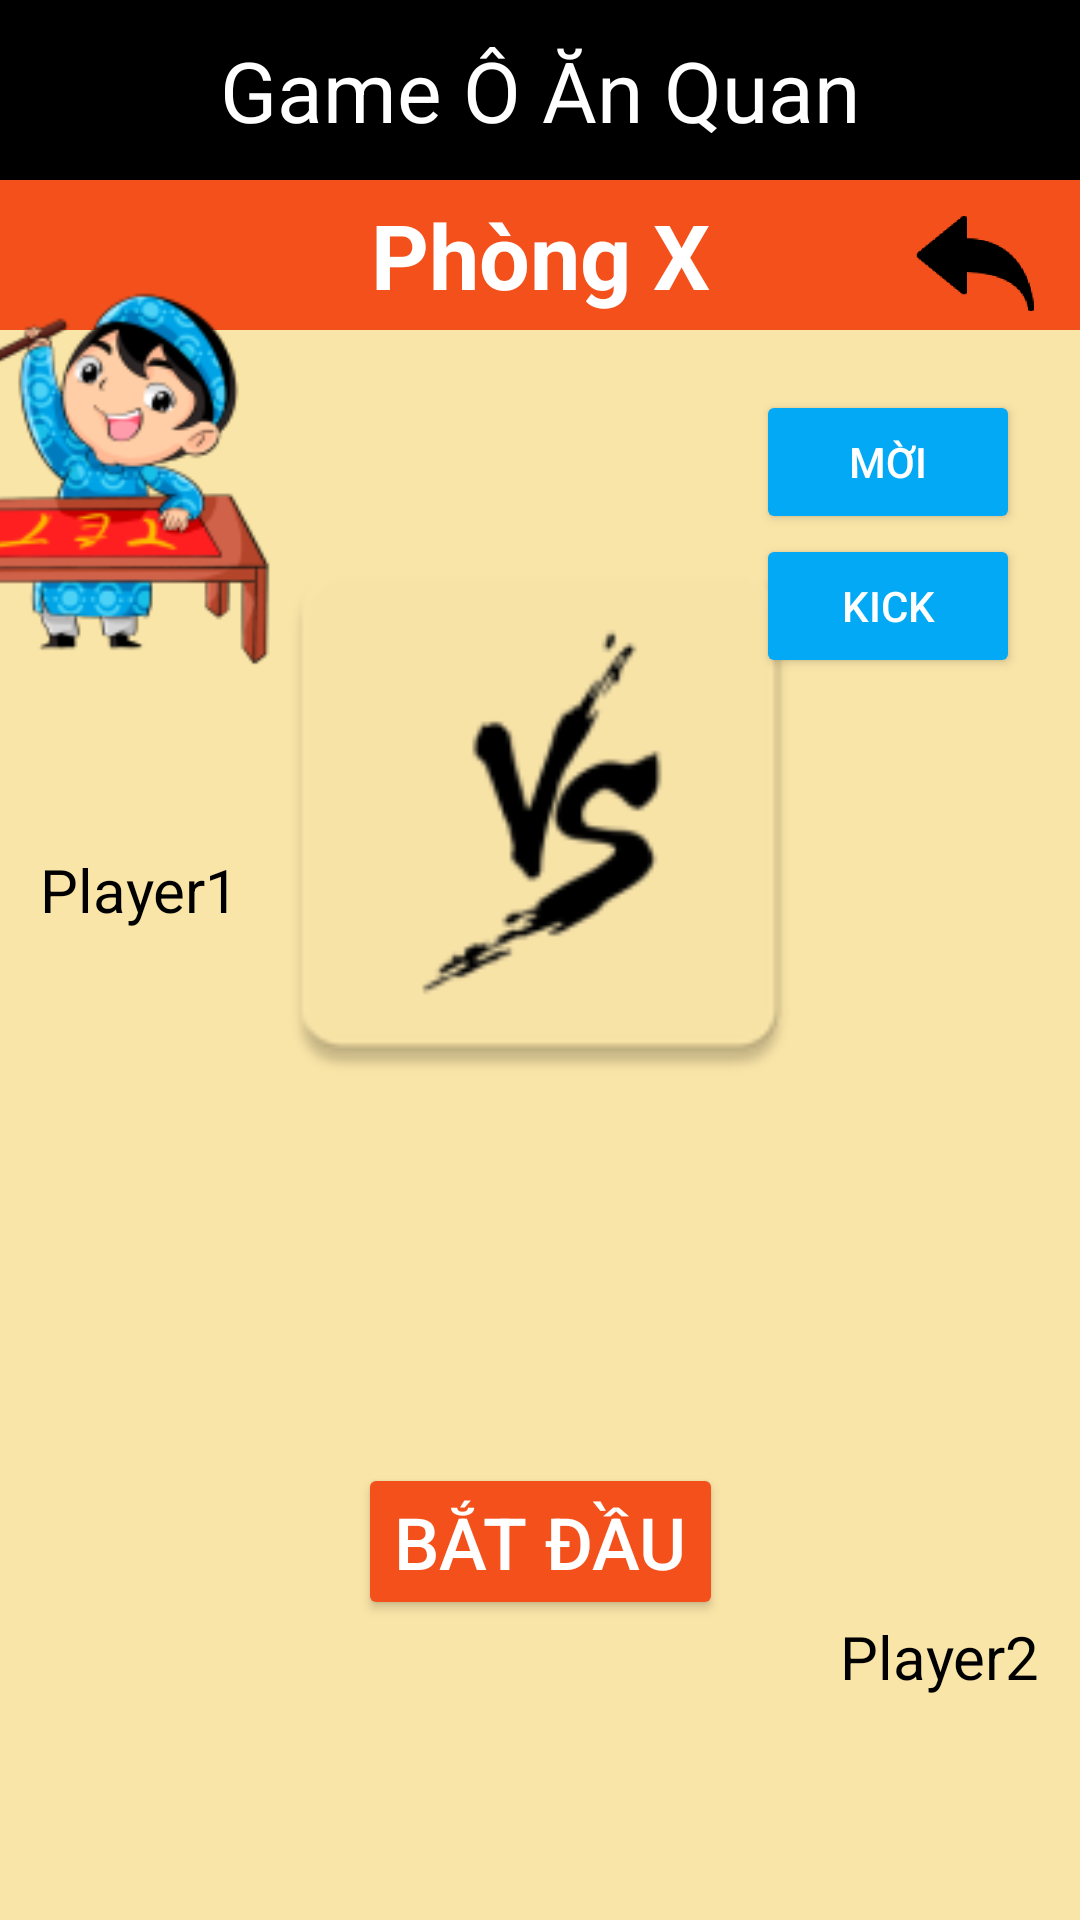

Where to tap for icons on this 1080px×1920px app screen, as [x,y]:
back: [975,263]
